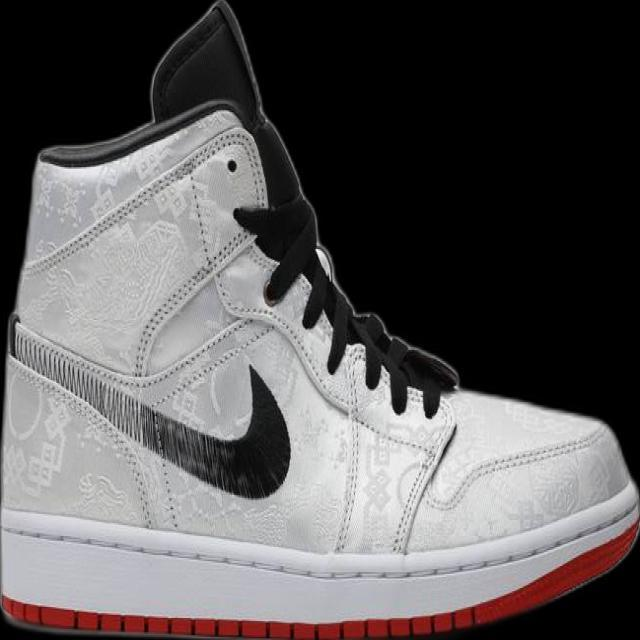J1_InsoleChar: (0, 0, 639, 639)
J1_StitchPattern: (7, 117, 458, 520), (6, 313, 292, 501), (1, 504, 638, 585), (20, 122, 267, 279), (267, 239, 460, 418), (389, 408, 457, 557), (331, 340, 366, 555)
